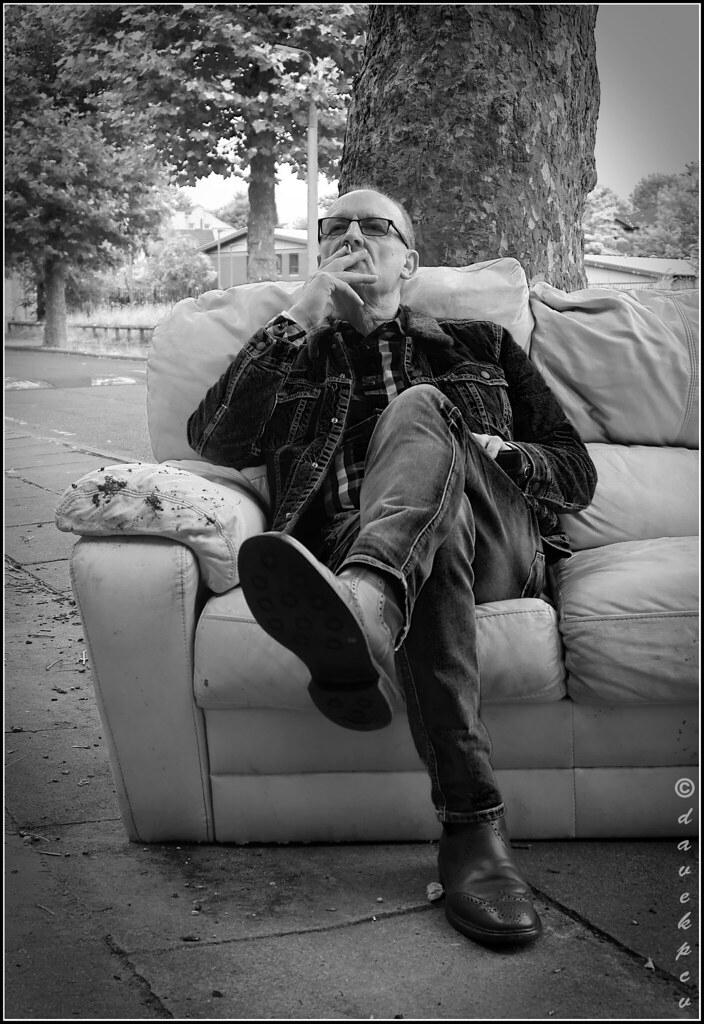cigarette: (344, 241, 353, 255)
